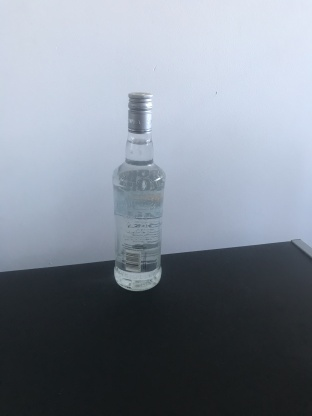nakretka: (126, 90, 153, 133)
